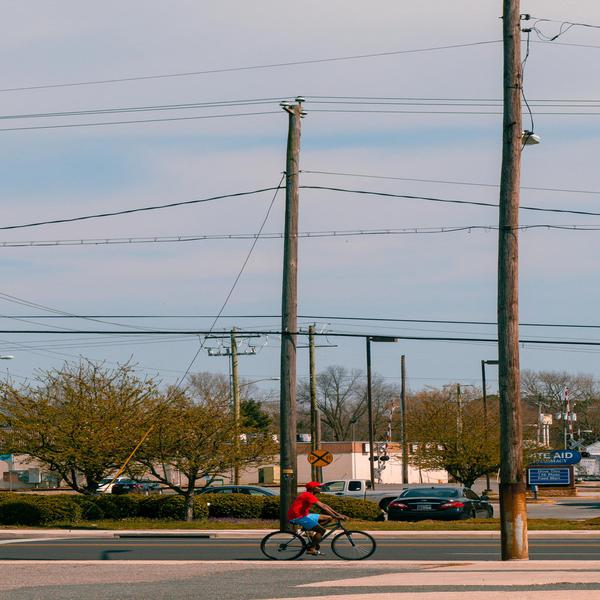utility_pole: (481, 2, 547, 152), (255, 85, 321, 205), (198, 319, 264, 385)
